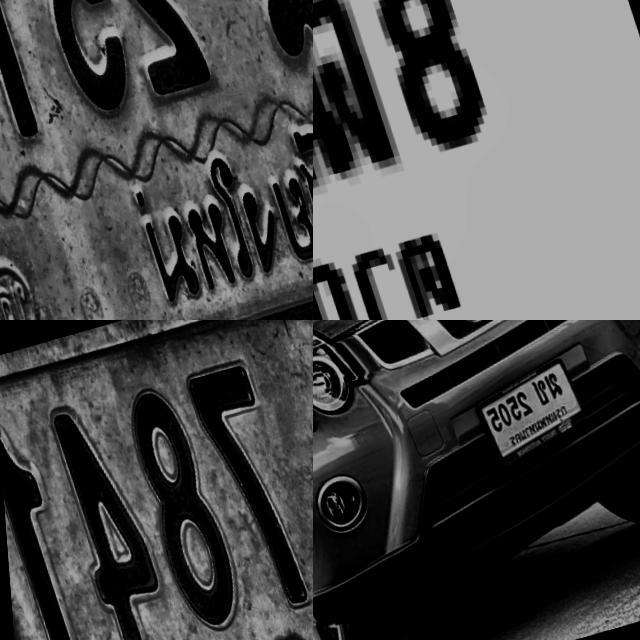license-plate: (313, 0, 640, 320), (0, 0, 313, 320), (0, 320, 313, 640), (457, 354, 594, 480)
